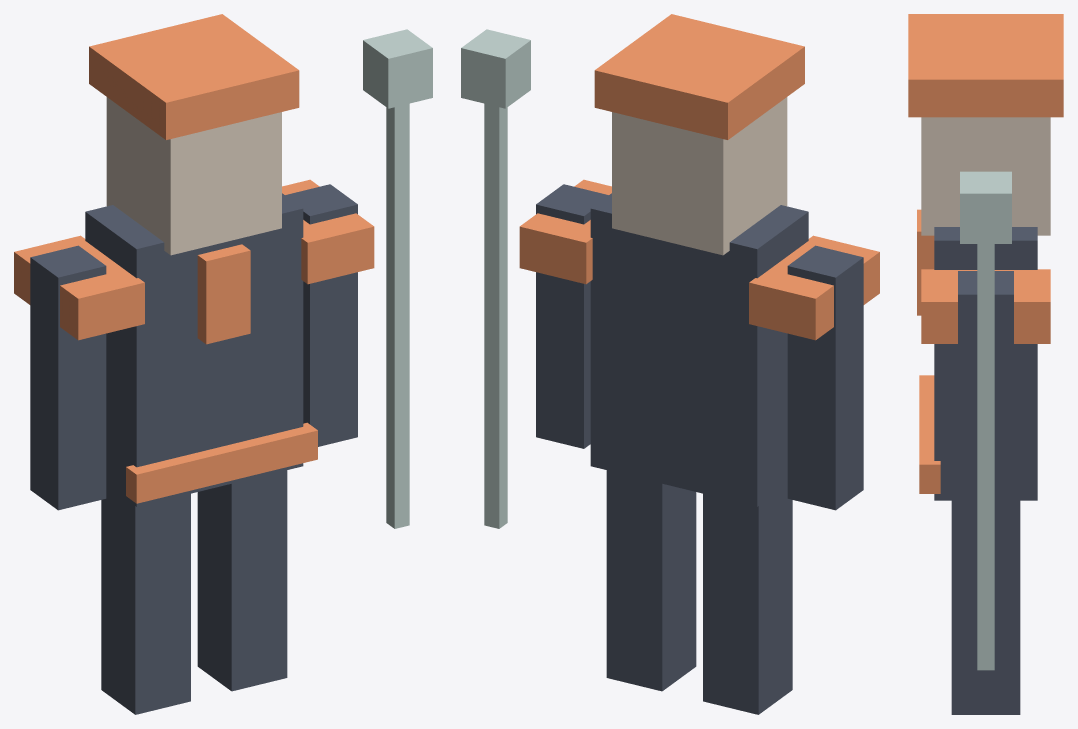
Rendered from 03_auren_brightlock_captain_from_emergency.glb.
The picture shows the model from 3 angles, left to right: view 1: azimuth 30°, elevation 25°; view 2: azimuth 150°, elevation 25°; view 3: azimuth 270°, elevation 25°; orthographic projection.
Parts seen in each view (by area): view 1: Auren Brightlock, Captain from Emergency; view 2: Auren Brightlock, Captain from Emergency; view 3: Auren Brightlock, Captain from Emergency.
Boxes of the visible parts, x1,y1,x2,y2 form: Auren Brightlock, Captain from Emergency: [14, 14, 432, 714]; Auren Brightlock, Captain from Emergency: [461, 14, 879, 714]; Auren Brightlock, Captain from Emergency: [908, 14, 1063, 714].
Bounding box in the file's own units: 0.9861 × 1.57 × 0.3497.
